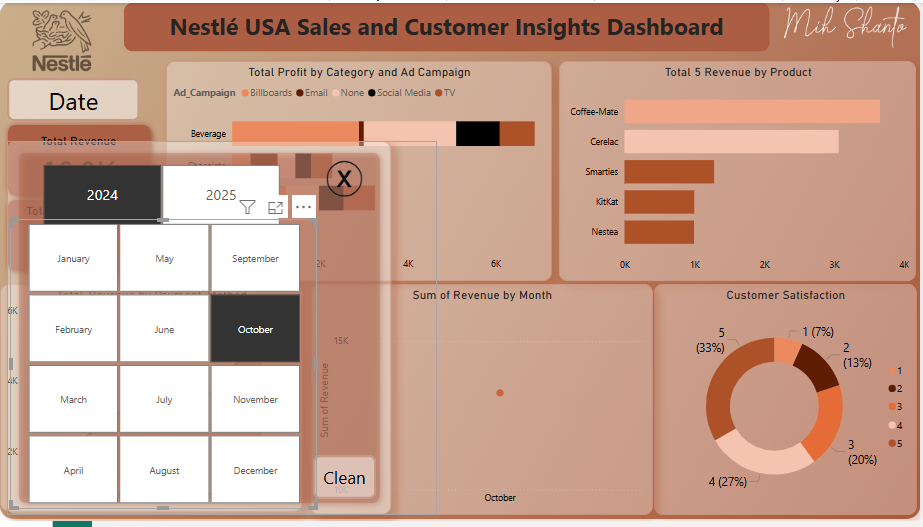

What the dashboard file says about the page in this screenshot:
{"tool":"powerbi","page":{"name":"Page 1","canvas":[1280,720],"ordinal":0},"visuals":[{"type":"barChart","title":"Total Profit by Category and Ad Campaign","fields":{"Category":["SalesData.Category"],"Series":["SalesData.Ad_Campaign"],"Y":["Measures .Total_Revenue"]},"box":[231.4,80.5,536,306.1],"z":0},{"type":"shape","box":[0,262.2,219.7,120.1],"z":1000},{"type":"card","title":"Total Sold Products","fields":{"Values":["Sum(SalesData.Units_Sold)"]},"box":[4.4,278.3,209.4,92.3],"z":2000},{"type":"clusteredBarChart","title":"Total 5 Revenue by Product","fields":{"Y":["Measures .Total_Revenue"],"Category":["SalesData.Product_Name"]},"box":[777.7,80.5,496.5,306.1],"z":3000},{"type":"shape","box":[0,158.2,220,120],"z":4000},{"type":"textbox","box":[172.4,0,896.5,66.7],"z":5000},{"type":"image","box":[0,0,172.4,104.2],"z":6000},{"type":"image","box":[1068.9,0,211.3,66.7],"z":7000},{"type":"actionButton","box":[10.3,104,184.5,60],"z":8000},{"type":"card","title":"Total Revenue","fields":{"Values":["Measures .Total_Revenue"]},"box":[10.3,180.1,199.2,82],"z":9000},{"type":"donutChart","title":"Customer Satisfaction ","fields":{"Category":["SalesData.Customer_Satisfaction"],"Y":["Median(SalesData.Customer_Satisfaction)"]},"box":[909.5,391,364.7,320.7],"z":11000},{"type":"lineChart","fields":{"Category":["SalesData.Date.Variation.Date Hierarchy.Month"],"Y":["Sum(SalesData.Revenue)"]},"box":[432,391,474.5,320.7],"z":12000},{"type":"areaChart","fields":{"Category":["SalesData.Payment_Method"],"Y":["Measures .Total_Revenue"]},"box":[0,391,420.3,316.3],"z":13000}]}

Visuals, with their boxes in screenshot pixels (x1, y1, x2, y2), scaled from the page's 1280x720 canvas onto the 923x527 screenshot:
"Total Profit by Category and Ad Campaign" barChart: 167, 59, 553, 283
shape: 0, 192, 158, 280
"Total Sold Products" card: 3, 204, 154, 271
"Total 5 Revenue by Product" clusteredBarChart: 561, 59, 919, 283
shape: 0, 116, 159, 204
textbox: 124, 0, 771, 49
image: 0, 0, 124, 76
image: 771, 0, 922, 49
actionButton: 7, 76, 140, 120
"Total Revenue" card: 7, 132, 151, 192
"Customer Satisfaction " donutChart: 656, 286, 919, 521
lineChart - SalesData.Date.Variation.Date Hierarchy.Month x Sum(SalesData.Revenue): 312, 286, 654, 521
areaChart - SalesData.Payment_Method x Measures .Total_Revenue: 0, 286, 303, 518
